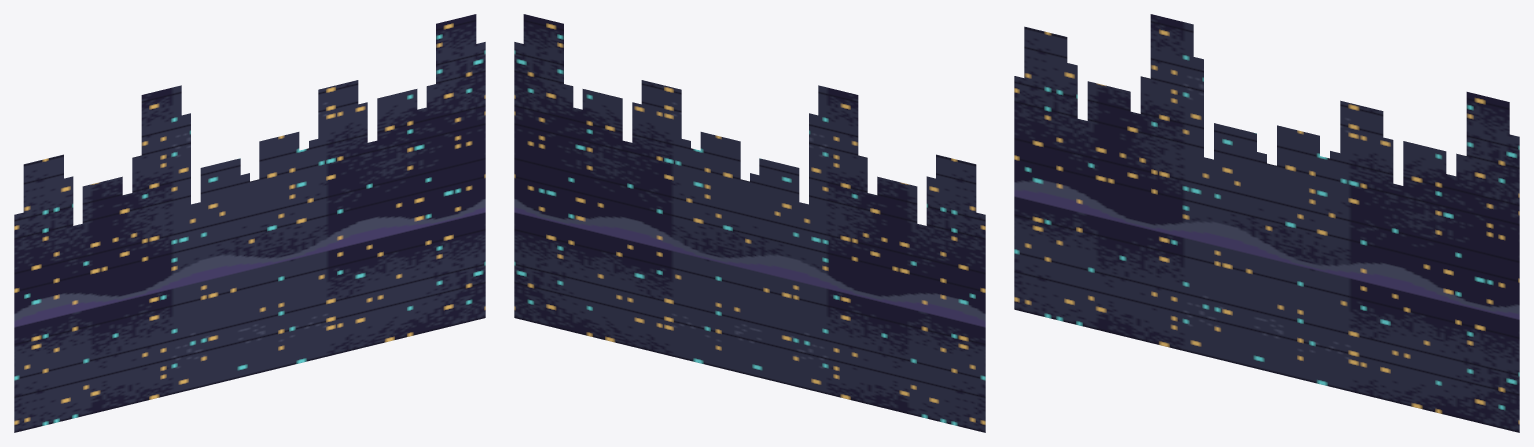
File: cysky.stepped.glb
3 views of the same model, side by side, from view 1: azimuth 30°, elevation 25°; view 2: azimuth 150°, elevation 25°; view 3: azimuth 330°, elevation 25° (orthographic). The views are drawn at different scales.
Visible parts, largest first — view 1: kit_card_skyline; view 2: kit_card_skyline; view 3: kit_card_skyline.
Part boxes in pixels (x1,y1,x2,y2): kit_card_skyline: [14, 14, 485, 432]; kit_card_skyline: [514, 14, 985, 432]; kit_card_skyline: [1014, 14, 1519, 432].
Bounding box in the file's own units: 56 × 34.84 × 0.
Materials: 1 (1 with a texture image).
